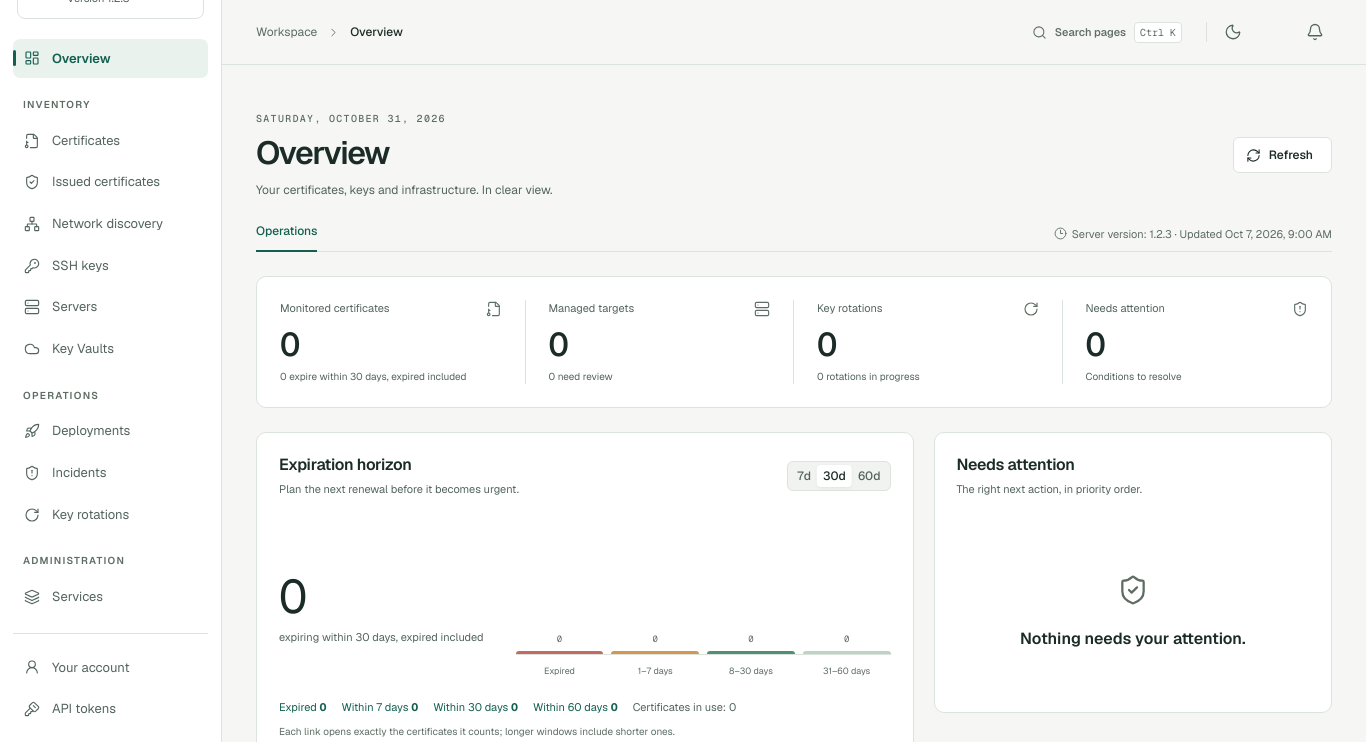
Test case: command palette › opens with Ctrl+K and lists only the pages the role may open
(page scrolled)
Expected: the navigation bar named "Main navigation" is shown, x1=13 y1=36 x2=208 y2=731
Type keys "{Control>}k{/Control}"
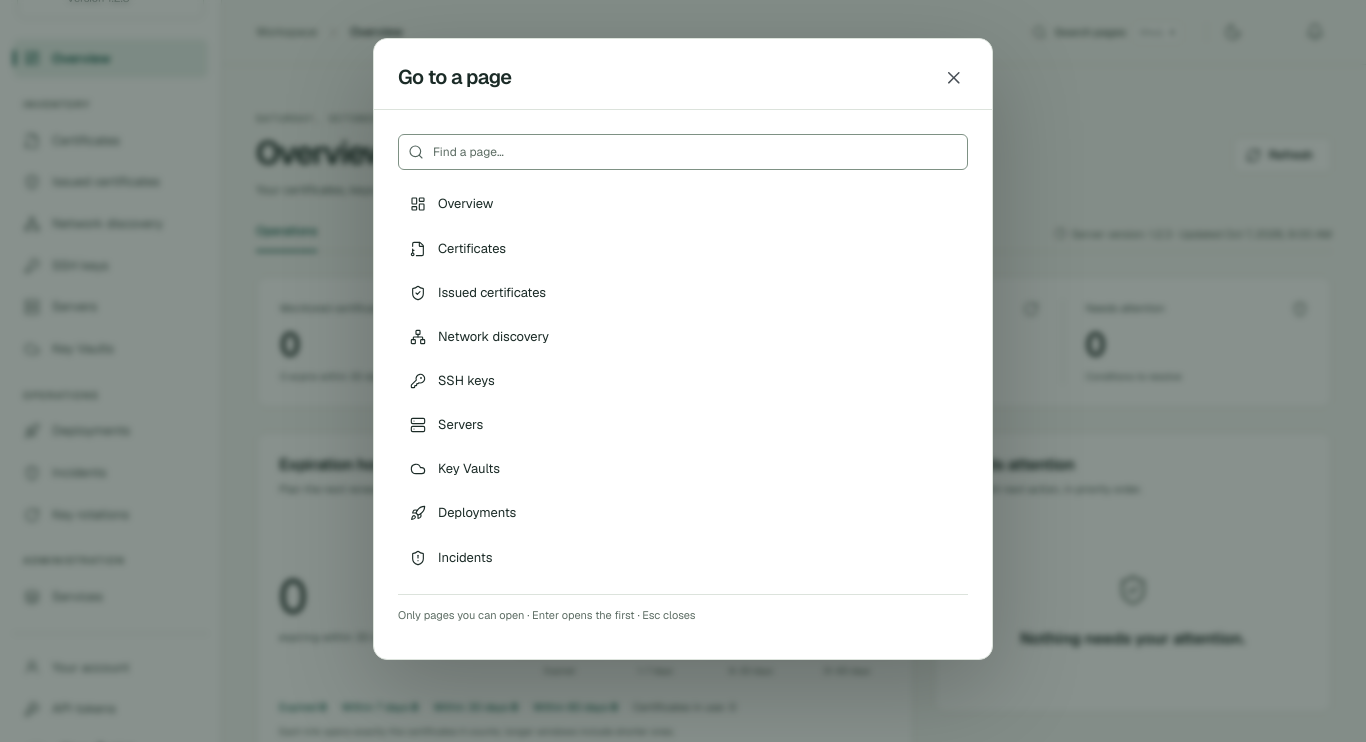
In the field labelled "Find a page…": (683, 152) x1=398 y1=134 x2=968 y2=170, type "audit"
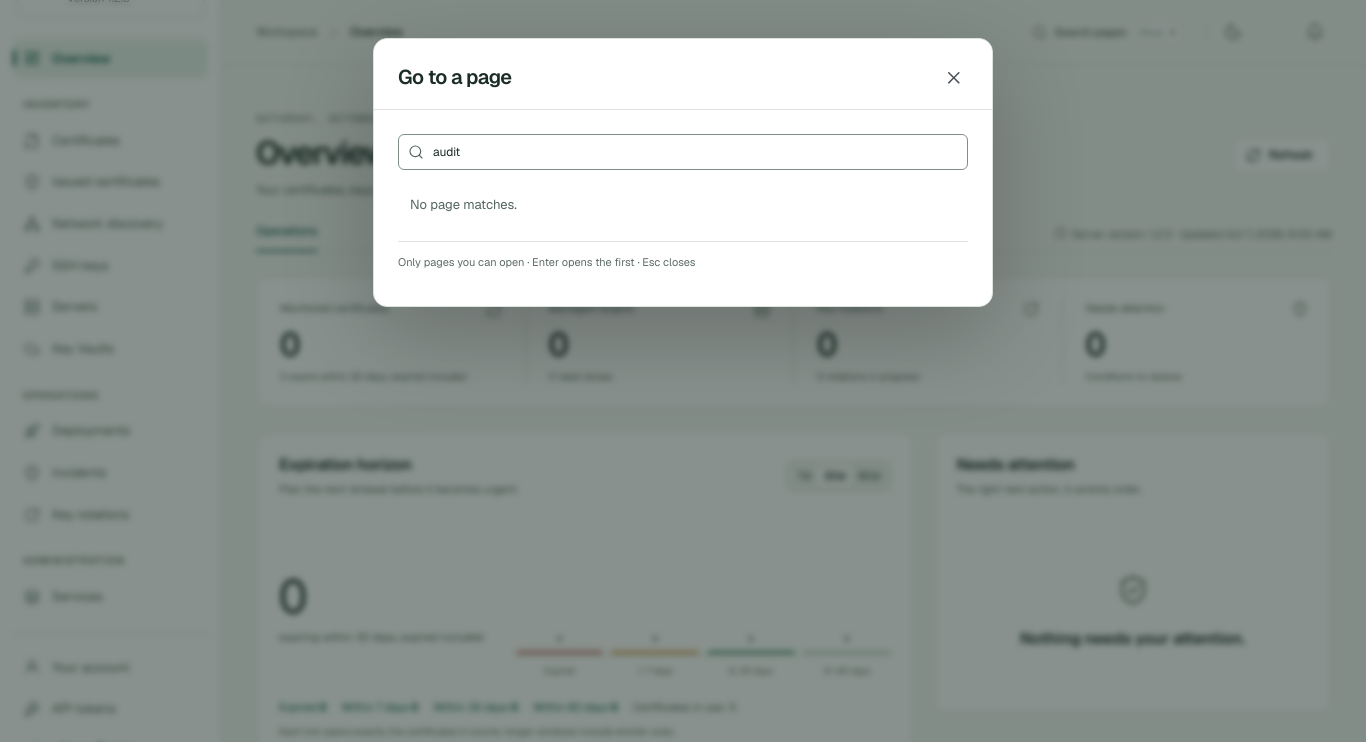
Expected: the dialog "Go to a page" shows "No page matches.", x1=410 y1=196 x2=517 y2=213
